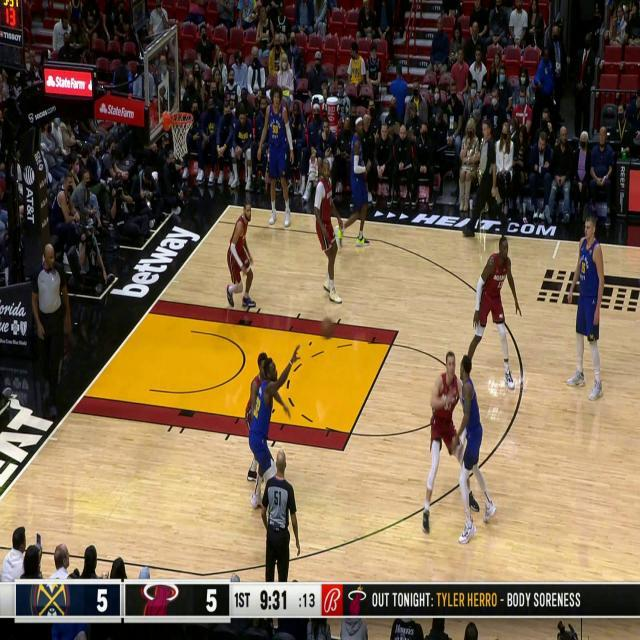rim: (321, 316, 334, 341)
